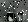person: (21, 10, 27, 21), (8, 10, 14, 21)
